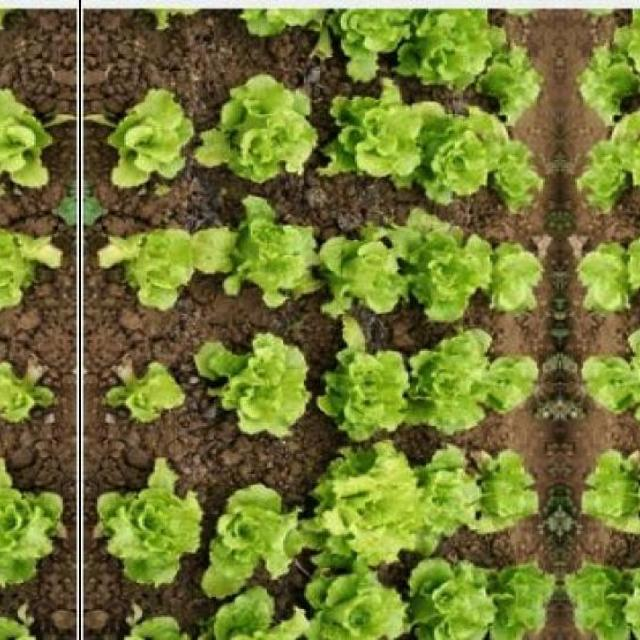healthy: (96, 458, 204, 594), (324, 78, 441, 198), (200, 195, 322, 308), (192, 336, 316, 446), (200, 72, 318, 186), (308, 446, 414, 572), (204, 469, 302, 595), (396, 210, 486, 326), (318, 332, 408, 446), (414, 100, 501, 212), (406, 328, 492, 439), (317, 221, 407, 325), (108, 218, 205, 314), (110, 82, 192, 195), (405, 0, 503, 92), (0, 458, 63, 593), (404, 548, 494, 640), (328, 0, 419, 90), (413, 448, 482, 566), (302, 566, 411, 640), (102, 357, 186, 438), (478, 40, 550, 130), (570, 39, 640, 130), (481, 232, 547, 326), (573, 232, 639, 326), (0, 81, 49, 194), (478, 450, 542, 534), (492, 560, 558, 640), (562, 560, 628, 640), (578, 449, 640, 534), (191, 594, 301, 640), (0, 217, 51, 314), (0, 356, 58, 437), (488, 344, 546, 424), (574, 344, 632, 424), (494, 134, 546, 218), (574, 134, 626, 218), (230, 0, 327, 42), (619, 99, 640, 212), (127, 610, 200, 640), (617, 0, 640, 92), (627, 328, 640, 439), (626, 548, 640, 639), (0, 610, 32, 640), (634, 210, 640, 325), (637, 448, 640, 566)
